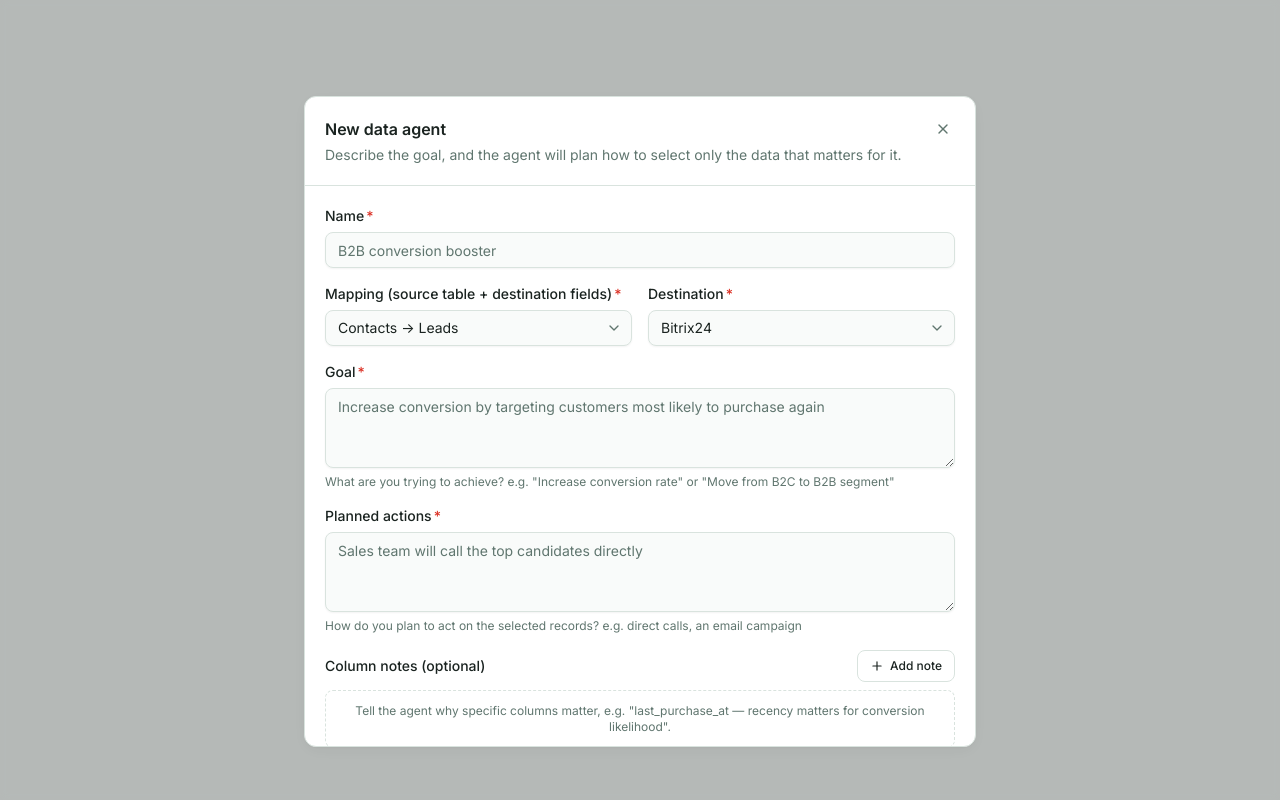
Scenario: AgentFormModal › adds and removes a column note
Step 1. Click the button "Add note" → (906, 666), box top-left (857, 650), bottom-right (955, 682)
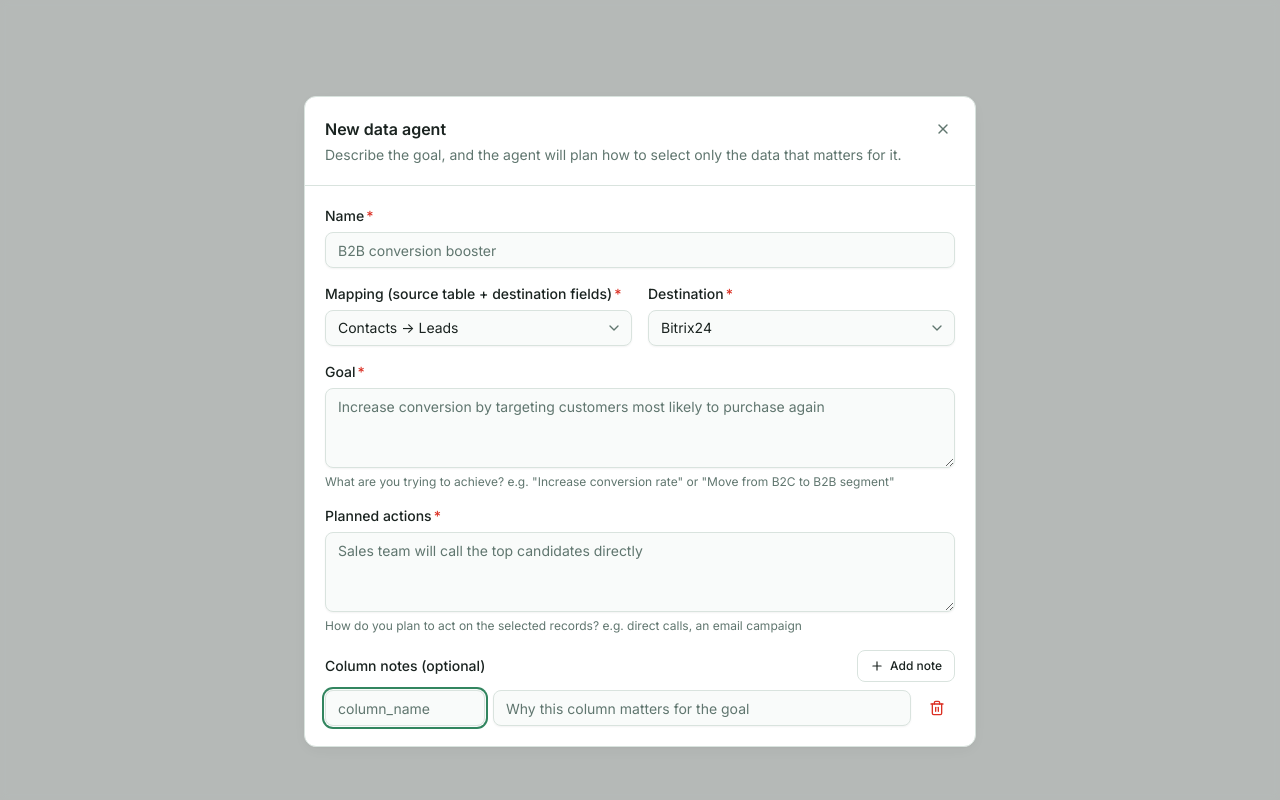
Check: the field with placeholder "column_name" is shown, box top-left (325, 690), bottom-right (485, 726)
Step 2. Click the button named "remove column note" → (937, 708), box top-left (919, 690), bottom-right (955, 726)
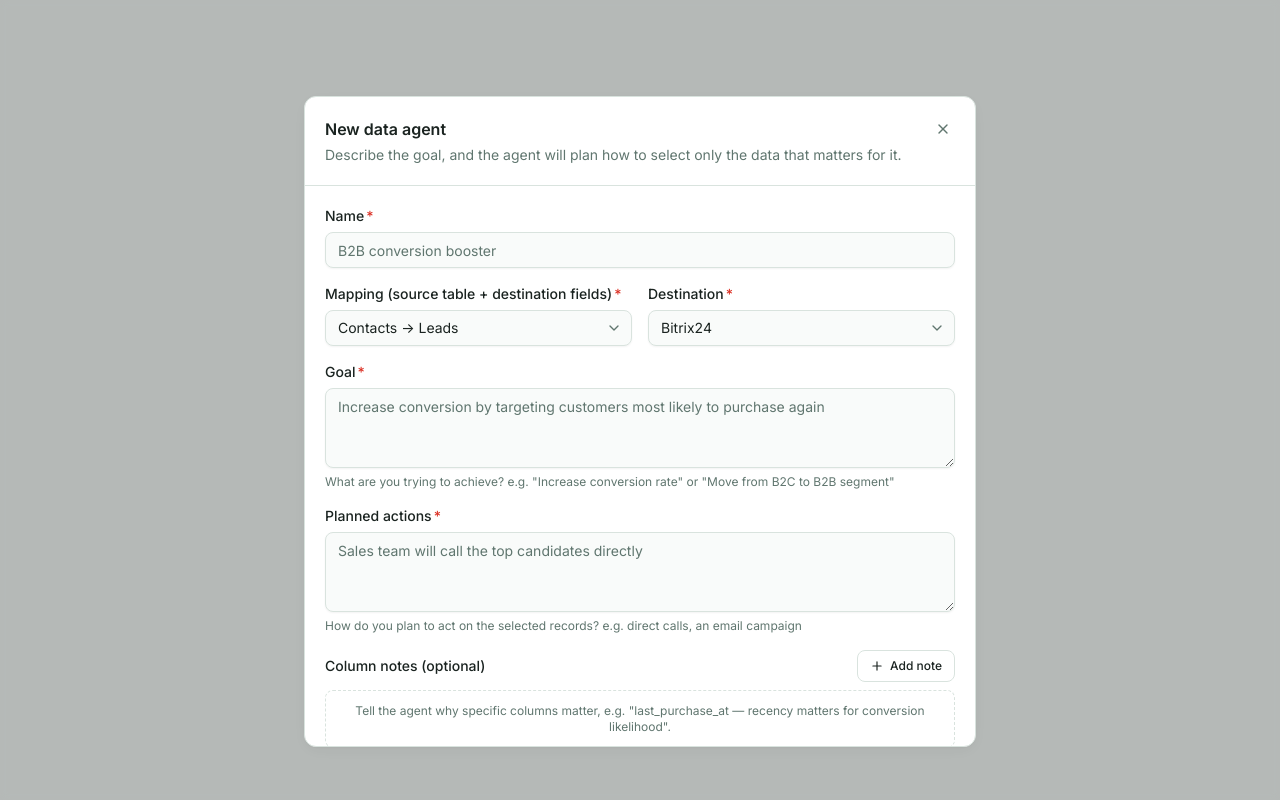
Check: the field with placeholder "column_name" is gone
